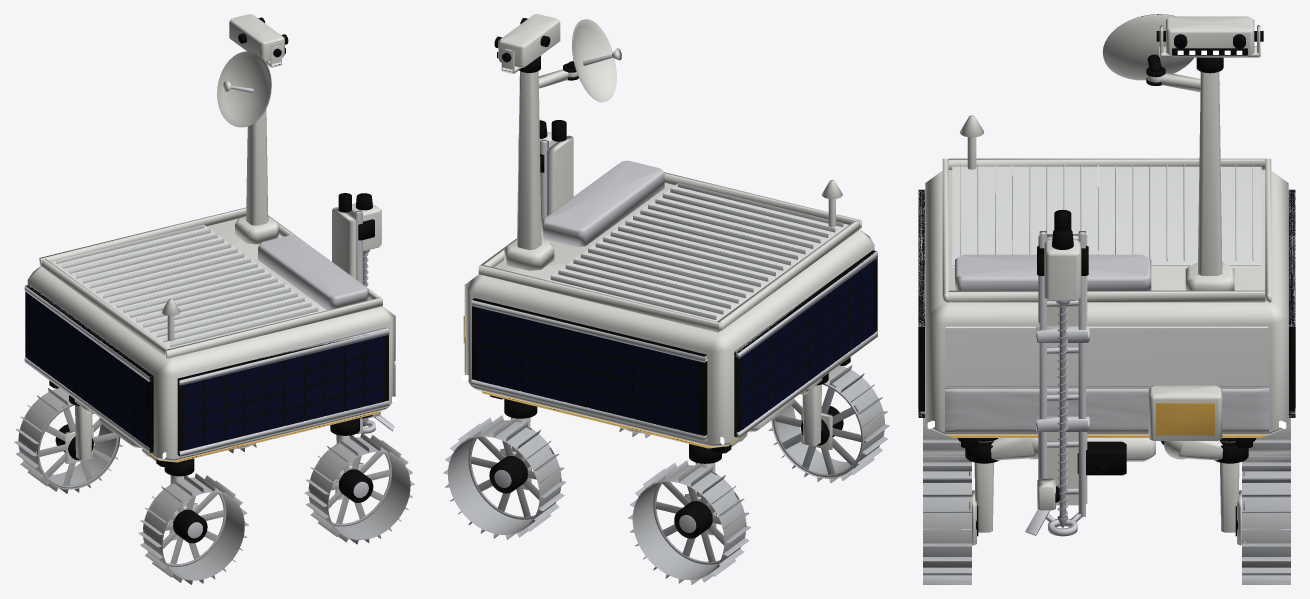
The model's file is viper.glb.
The picture shows the model from 3 angles, left to right: view 1: azimuth 30°, elevation 25°; view 2: azimuth 150°, elevation 25°; view 3: azimuth 270°, elevation 25°; orthographic projection. The views are drawn at different scales.
Parts seen in each view (by area): view 1: chassis_body, array_R_cells, radiator_fins, radiator_plate, array_aft_cells, deck_rim, deck_box, array_R_substrate, wheel_RR_rim, wheel_FR_rim, hga_dish, array_aft_substrate (+17 smaller); view 2: chassis_body, radiator_fins, array_L_cells, radiator_plate, array_aft_cells, deck_rim, deck_box, array_L_substrate, wheel_RL_rim, wheel_FL_rim, mast, array_aft_substrate (+17 smaller); view 3: radiator_plate, chassis_body, front_radiator, front_mli, deck_rim, deck_box, mast, wheel_FL_rim, wheel_FR_rim, trident_rail, hga_dish, mast_head_housing (+26 smaller).
Boxes of the visible parts, left/top/right/bottom form: chassis_body: left=27, top=218, right=394, bottom=461; array_R_cells: left=185, top=336, right=384, bottom=450; radiator_fins: left=56, top=224, right=318, bottom=347; radiator_plate: left=51, top=225, right=322, bottom=348; array_aft_cells: left=27, top=293, right=146, bottom=445; deck_rim: left=39, top=207, right=382, bottom=358; deck_box: left=258, top=235, right=368, bottom=310; array_R_substrate: left=177, top=334, right=388, bottom=456; wheel_RR_rim: left=143, top=477, right=244, bottom=580; wheel_FR_rim: left=308, top=437, right=410, bottom=540; hga_dish: left=217, top=51, right=271, bottom=127; array_aft_substrate: left=25, top=285, right=153, bottom=452; chassis_body: left=465, top=182, right=874, bottom=447; radiator_fins: left=550, top=183, right=843, bottom=319; array_L_cells: left=477, top=307, right=699, bottom=434; radiator_plate: left=546, top=184, right=848, bottom=321; array_aft_cells: left=742, top=260, right=874, bottom=429; deck_rim: left=478, top=162, right=861, bottom=332; deck_box: left=541, top=160, right=664, bottom=246; array_L_substrate: left=472, top=298, right=707, bottom=439; wheel_RL_rim: left=632, top=465, right=746, bottom=579; wheel_FL_rim: left=448, top=420, right=561, bottom=534; mast: left=517, top=71, right=541, bottom=250; array_aft_substrate: left=734, top=250, right=877, bottom=437; radiator_plate: left=952, top=166, right=1261, bottom=267; chassis_body: left=925, top=170, right=1288, bottom=435; front_radiator: left=945, top=326, right=1268, bottom=386; front_mli: left=945, top=388, right=1268, bottom=431; deck_rim: left=942, top=158, right=1271, bottom=302; deck_box: left=955, top=254, right=1151, bottom=290; mast: left=1198, top=72, right=1222, bottom=275; wheel_FL_rim: left=1242, top=462, right=1290, bottom=575; wheel_FR_rim: left=923, top=462, right=971, bottom=575; trident_rail: left=1039, top=231, right=1085, bottom=516; hga_dish: left=1102, top=14, right=1193, bottom=80; mast_head_housing: left=1166, top=16, right=1254, bottom=56.
Size of the model in its own units: 1.69 by 2.5 by 1.54.
